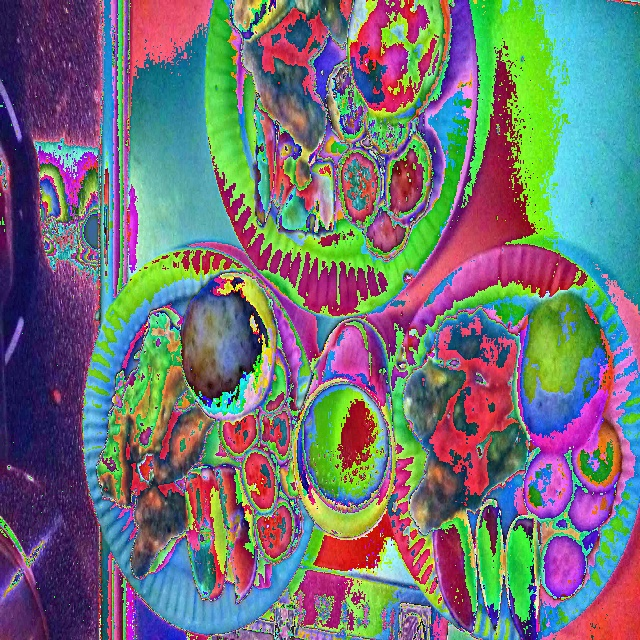background: (220, 290, 622, 639), (89, 132, 390, 513), (96, 275, 301, 604), (221, 0, 450, 262)
